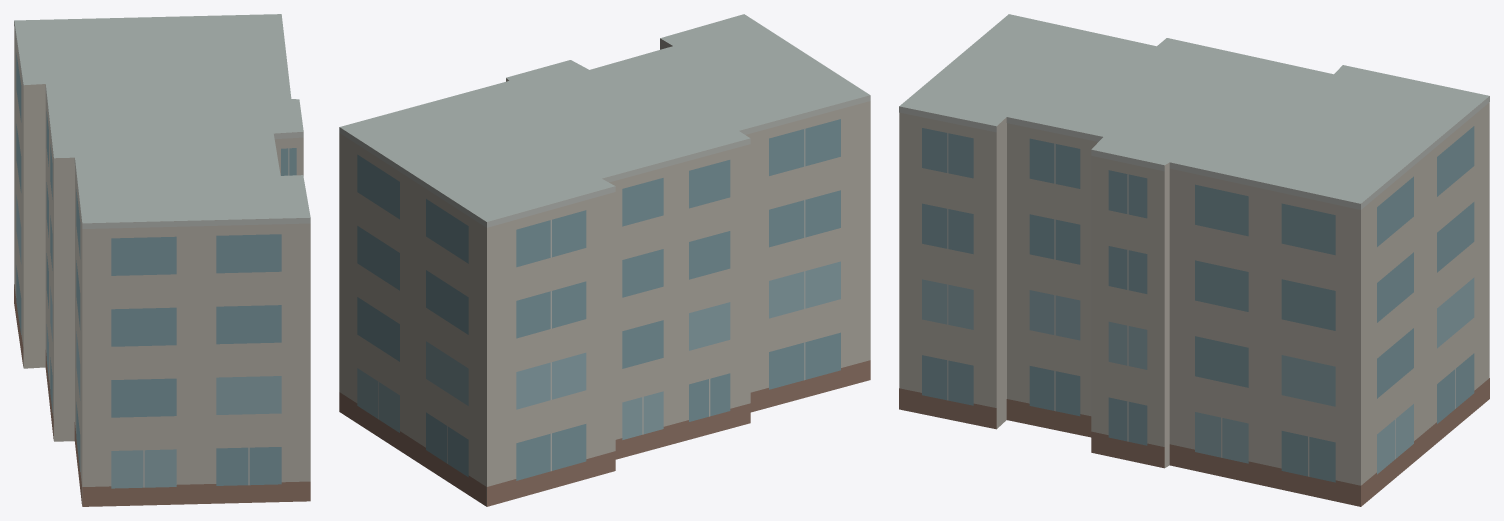
The model's file is survey-upis-32593460.glb.
The picture shows the model from 3 angles, left to right: view 1: azimuth 30°, elevation 25°; view 2: azimuth 150°, elevation 25°; view 3: azimuth 270°, elevation 25°; orthographic projection. The views are drawn at different scales.
Visible parts, largest first — view 1: survey-upis-32593460.tmp; view 2: survey-upis-32593460.tmp; view 3: survey-upis-32593460.tmp.
Boxes of the visible parts, x1,y1,x2,y2 form: survey-upis-32593460.tmp: [14, 14, 310, 506]; survey-upis-32593460.tmp: [339, 14, 870, 506]; survey-upis-32593460.tmp: [899, 14, 1489, 506].
Bounding box in the file's own units: 16.13 × 12 × 21.21.
